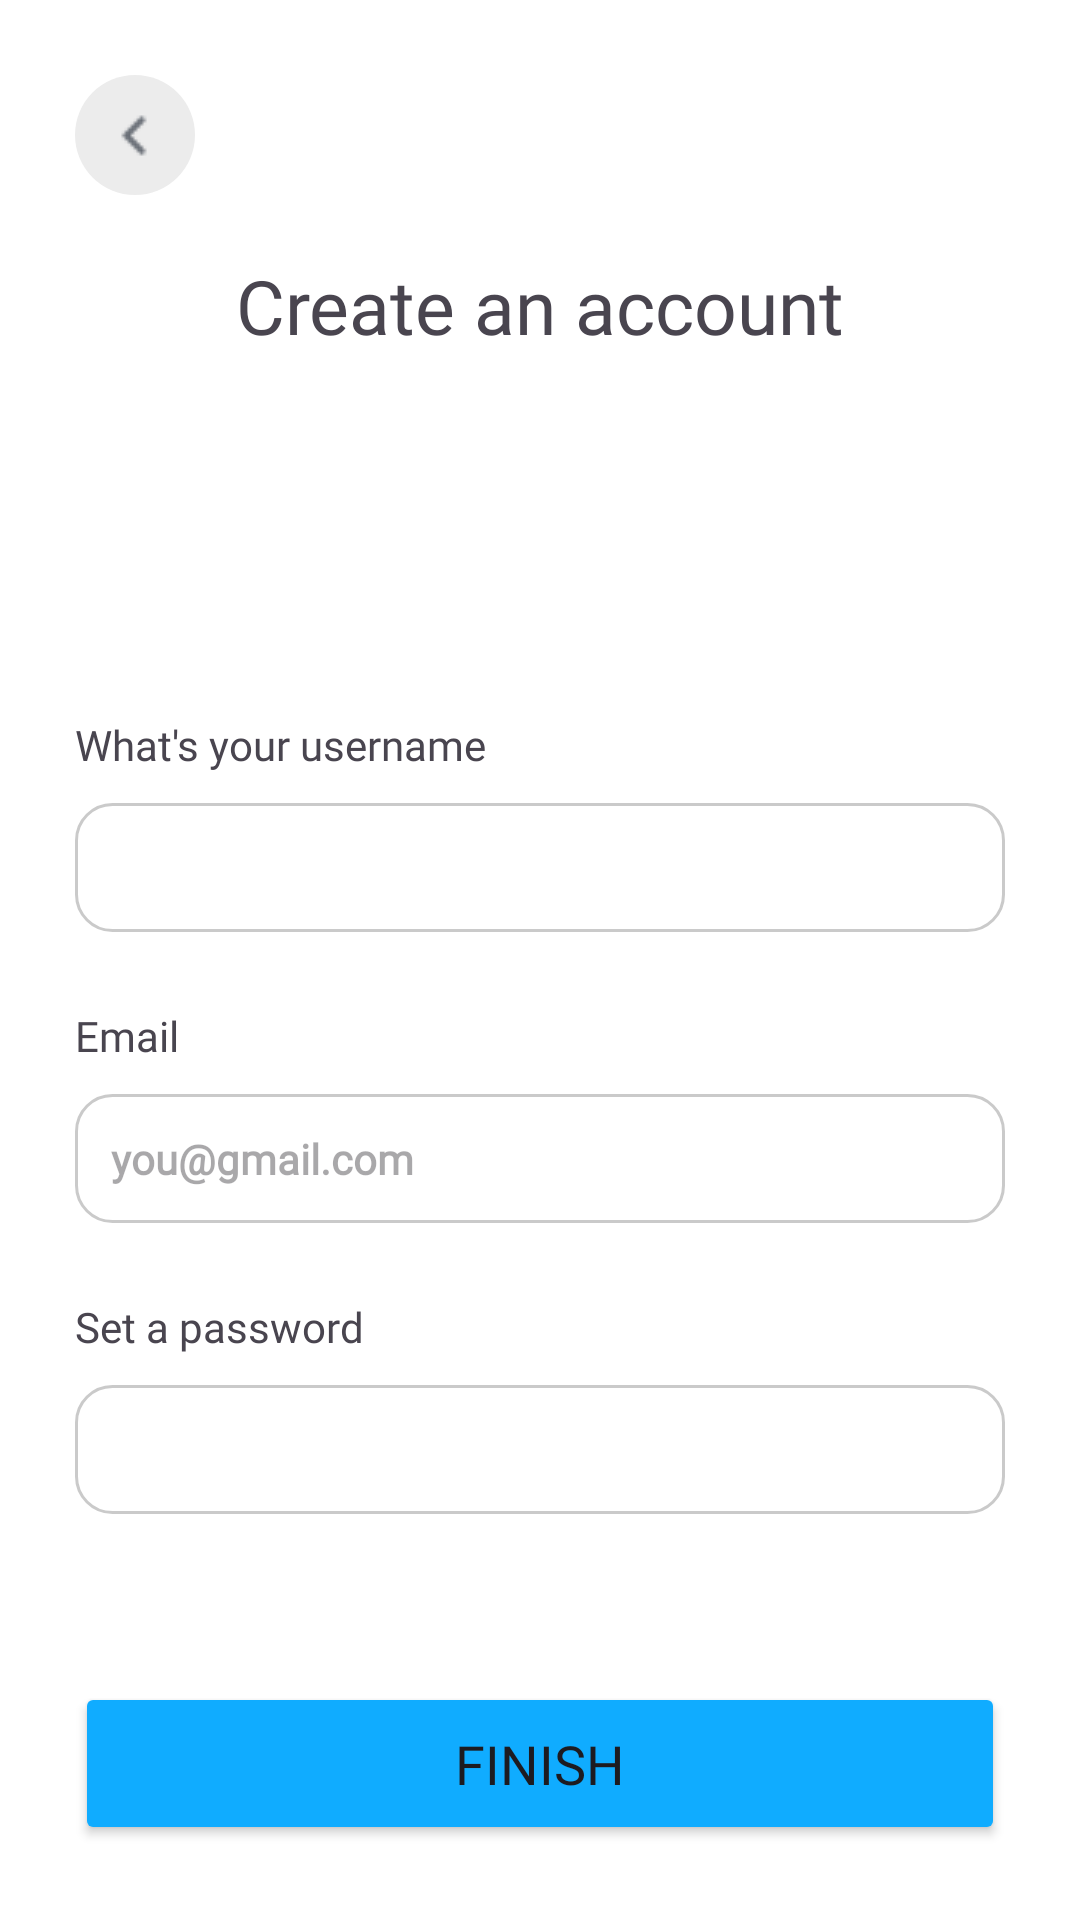

Screen size 1080x1920. Icon name, then its box in pixels as (x1, y1, x2, y2):
back: (121, 115, 147, 156)
